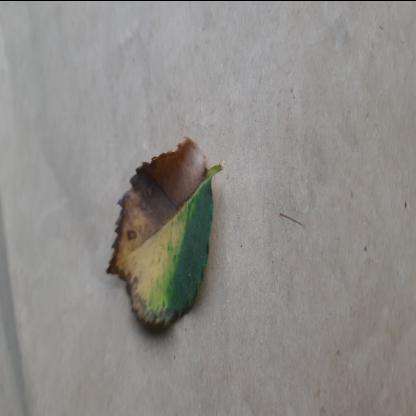black-spot: (104, 122, 216, 340)
